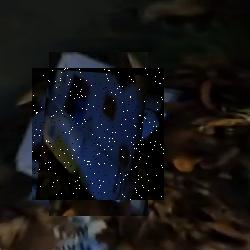restaffald: (32, 68, 164, 200)
